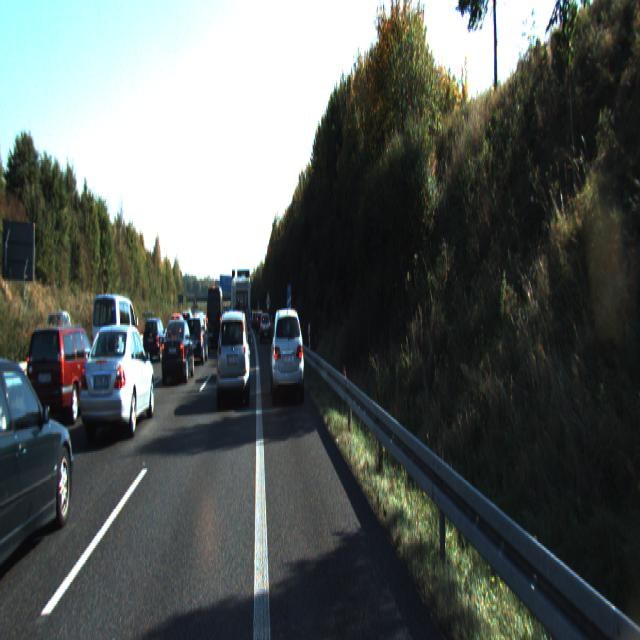Car: (0, 344, 78, 601), (78, 321, 155, 447), (22, 322, 104, 432), (90, 290, 140, 387), (215, 307, 250, 408), (271, 306, 305, 405), (160, 316, 194, 386), (232, 273, 252, 348), (141, 318, 167, 365), (186, 312, 209, 363), (207, 284, 225, 346), (261, 312, 272, 343)
